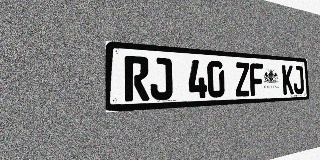0: (207, 60, 225, 98)
4: (188, 59, 207, 99)
F: (249, 63, 264, 96)
J: (150, 57, 173, 100), (293, 65, 304, 94)
K: (282, 65, 294, 95)
R: (124, 56, 149, 102)
Z: (235, 62, 250, 97)
